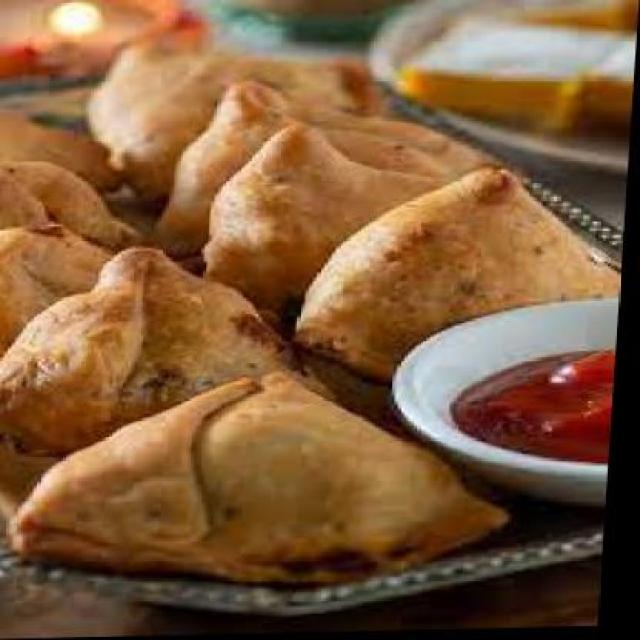samosa: (14, 369, 526, 591), (0, 245, 346, 464), (297, 171, 631, 386), (151, 77, 509, 274), (203, 121, 463, 332), (88, 42, 363, 202), (0, 224, 122, 384), (0, 155, 148, 254)
